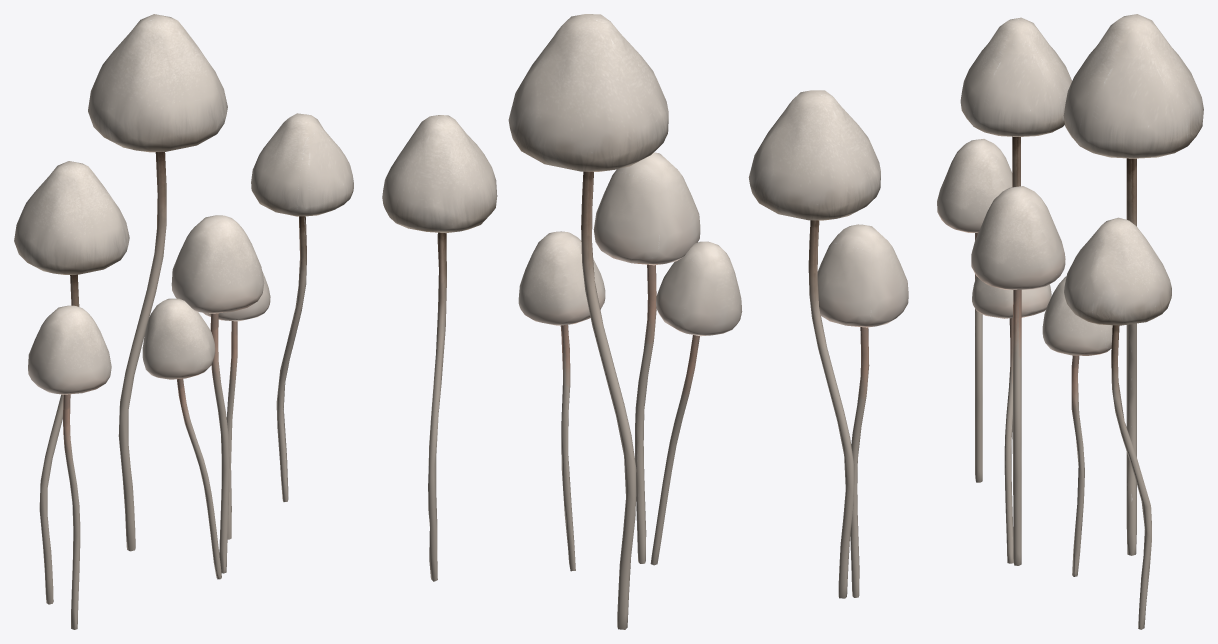
File: Pilz klein weiss.glb
The picture shows the model from 3 angles, left to right: view 1: azimuth 30°, elevation 25°; view 2: azimuth 150°, elevation 25°; view 3: azimuth 270°, elevation 25°; orthographic projection. The views are drawn at different scales.
Visible parts, largest first — view 1: Quad-Kugel_Quad-Kugel 1, Quad-Kugel_Quad-Kugel, Quad-Kugel_Quad-Kugel 2, Quad-Kugel_2, Quad-Kugel_5, Quad-Kugel_3, Hauptfläche 4, Hauptfläche 5, Hauptfläche 1, Hauptfläche, Hauptfläche 6, Hauptfläche 2 (+2 smaller); view 2: Quad-Kugel_Quad-Kugel 1, Quad-Kugel_Quad-Kugel, Quad-Kugel_Quad-Kugel 2, Quad-Kugel_2, Quad-Kugel_5, Quad-Kugel_3, Quad-Kugel_4, Hauptfläche 4, Hauptfläche, Hauptfläche 5, Hauptfläche 1, Hauptfläche 6 (+2 smaller); view 3: Quad-Kugel_Quad-Kugel 1, Quad-Kugel_Quad-Kugel, Quad-Kugel_Quad-Kugel 2, Quad-Kugel_2, Quad-Kugel_5, Hauptfläche 4, Quad-Kugel_4, Hauptfläche 1, Hauptfläche 5, Quad-Kugel_3, Hauptfläche 3, Hauptfläche 2 (+2 smaller).
Boxes of the visible parts, x1,y1,x2,y2 form: Quad-Kugel_Quad-Kugel 1: (88,14,227,152); Quad-Kugel_Quad-Kugel: (14,161,129,274); Quad-Kugel_Quad-Kugel 2: (251,113,353,216); Quad-Kugel_2: (171,215,264,313); Quad-Kugel_5: (28,305,111,394); Quad-Kugel_3: (142,298,215,379); Hauptfläche 4: (118,152,166,551); Hauptfläche 5: (276,216,306,501); Hauptfläche 1: (210,313,229,573); Hauptfläche: (39,274,79,604); Hauptfläche 6: (63,394,80,629); Hauptfläche 2: (177,378,221,579); Quad-Kugel_Quad-Kugel 1: (508,14,668,171); Quad-Kugel_Quad-Kugel: (748,90,880,220); Quad-Kugel_Quad-Kugel 2: (382,115,497,233); Quad-Kugel_2: (593,152,700,265); Quad-Kugel_5: (817,224,908,327); Quad-Kugel_3: (656,241,742,336); Quad-Kugel_4: (518,231,605,325); Hauptfläche 4: (581,171,636,629); Hauptfläche: (808,220,854,598); Hauptfläche 5: (428,232,446,581); Hauptfläche 1: (635,264,656,563); Hauptfläche 6: (850,327,869,597); Quad-Kugel_Quad-Kugel 1: (1063,14,1203,158); Quad-Kugel_Quad-Kugel: (960,17,1071,136); Quad-Kugel_Quad-Kugel 2: (1064,217,1171,325); Quad-Kugel_2: (971,186,1065,289); Quad-Kugel_5: (937,139,1012,232); Hauptfläche 4: (1126,158,1136,555); Quad-Kugel_4: (1042,276,1112,355); Hauptfläche 1: (1013,289,1021,565); Hauptfläche 5: (1111,325,1151,629); Quad-Kugel_3: (972,276,1051,318); Hauptfläche 3: (1071,355,1084,576); Hauptfläche 2: (1004,318,1013,563).
Size of the model in its own units: 0.7483 by 0.9966 by 0.4379.
Materials: 14 (14 with a texture image).
